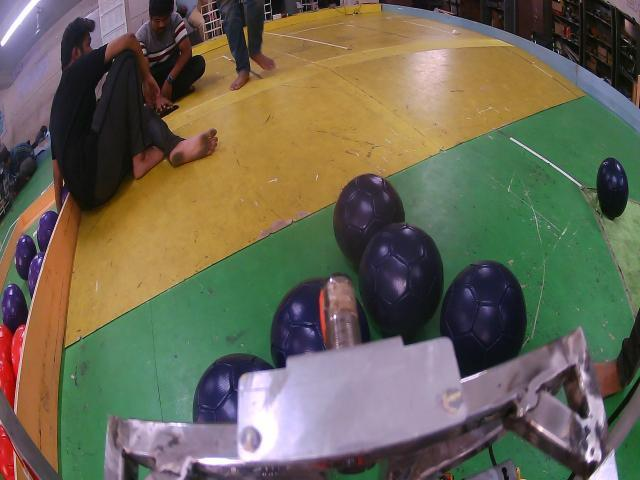jambhalya: (1, 283, 28, 333), (15, 235, 36, 280), (36, 210, 58, 252), (28, 252, 45, 298)
kaalyya: (359, 222, 444, 337), (444, 262, 529, 373), (334, 173, 405, 268), (192, 353, 272, 423), (270, 278, 326, 368), (596, 158, 629, 219)
